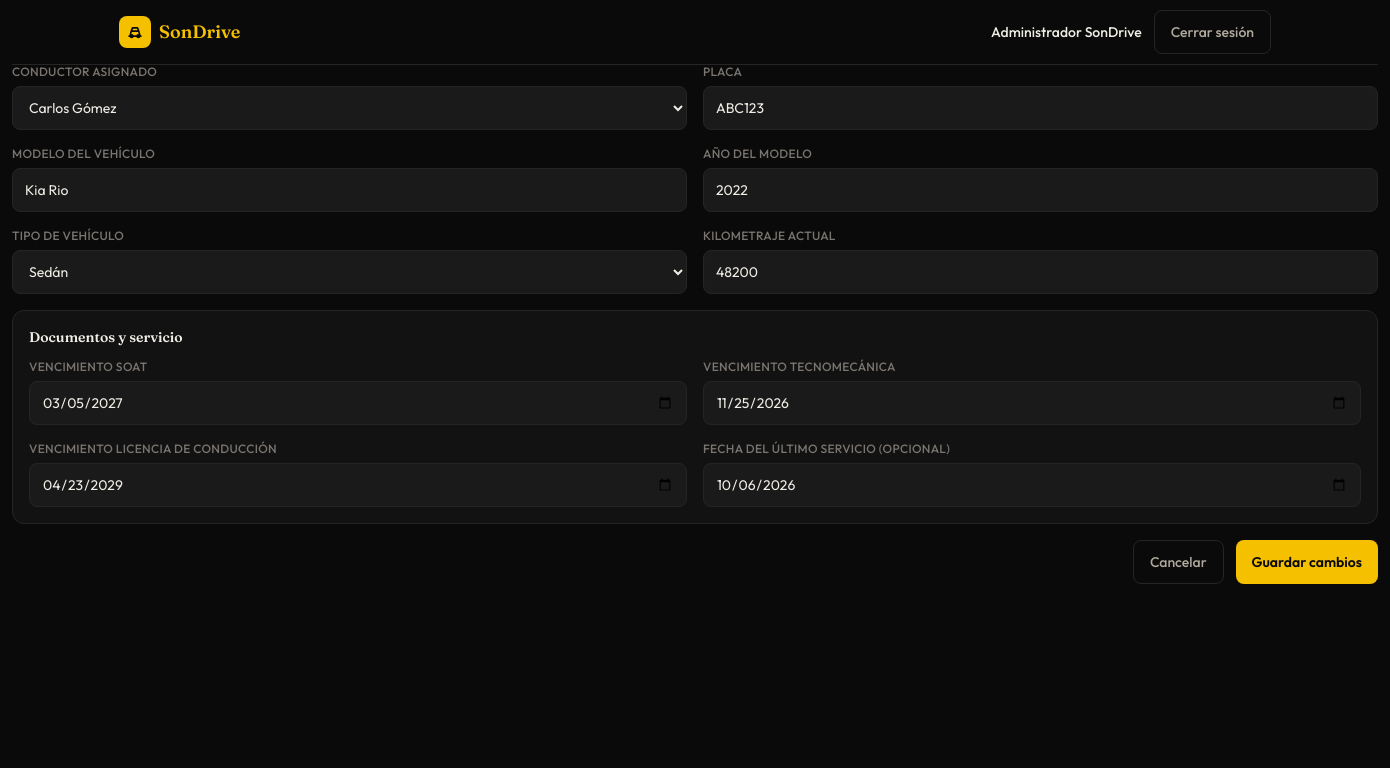
Test: FormularioEditarVehiculo › conductor asignado › usa el singular cuando solo hay un viaje próximo
Check: the button "Guardar cambios" is enabled, box top-left (1236, 540), bottom-right (1378, 584)
Select "Laura Pérez" in the dropdown labelled "Conductor asignado": (350, 108) top-left (12, 86), bottom-right (687, 130)
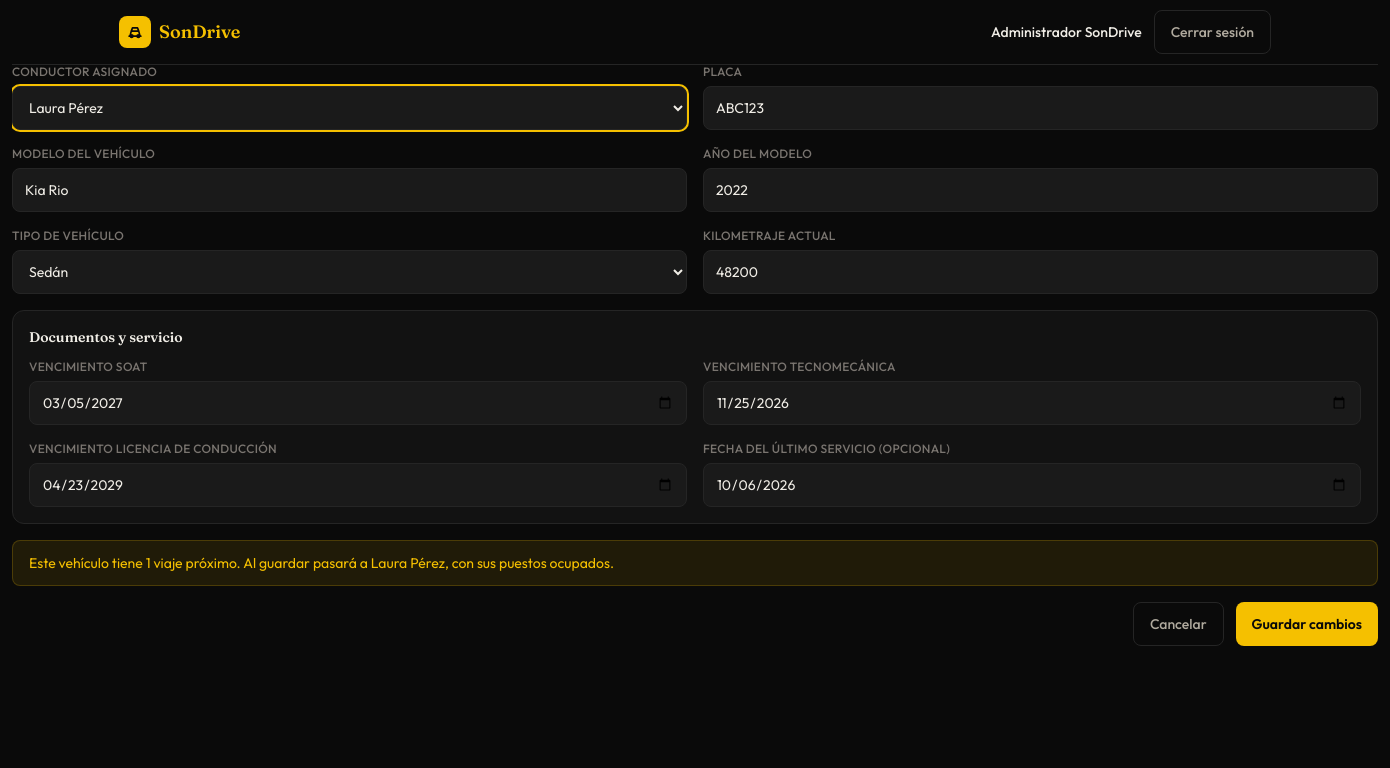
Check: the text "Este vehículo tiene 1 viaje próximo. Al guardar pasará a Laura Pérez, con sus puestos ocupados." is shown, box top-left (29, 554), bottom-right (614, 572)
